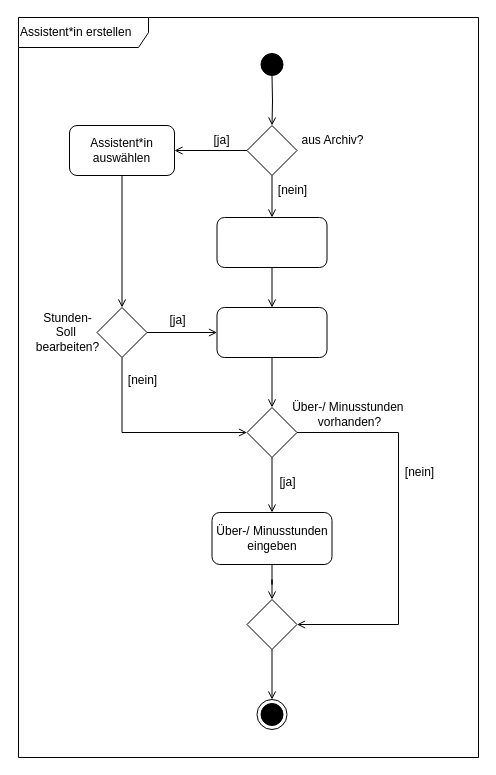
The diagram is 496 pixels wide and 775 high, and some of its shapes have lost their labels. Each missing label, with the centre of its shape:
Namen eingeben: the point at 271,242
Stunden-Soll eingeben: the point at 271,332
